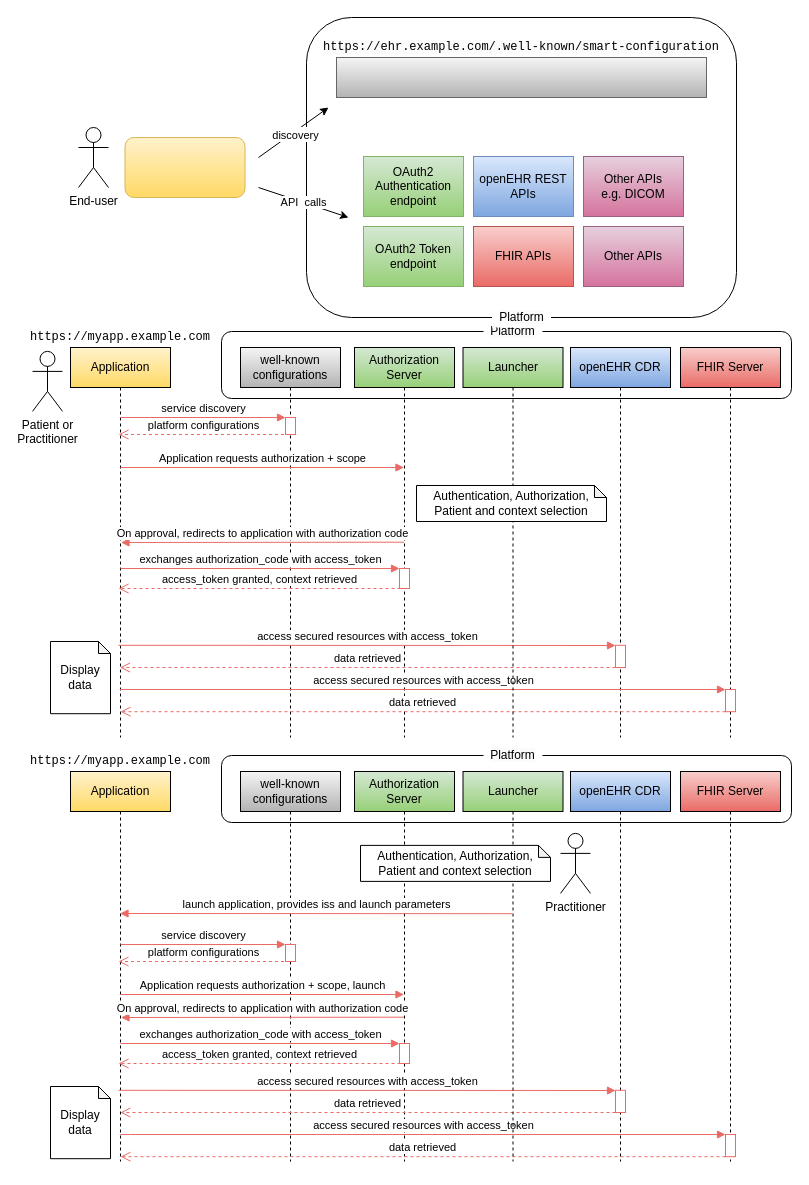
This 809x1185 diagram has some shape labels left out. Each missing label, with the box of its shape:
Client Application: (124, 136, 245, 198)
well-known configuration endpoint: (336, 56, 706, 98)
